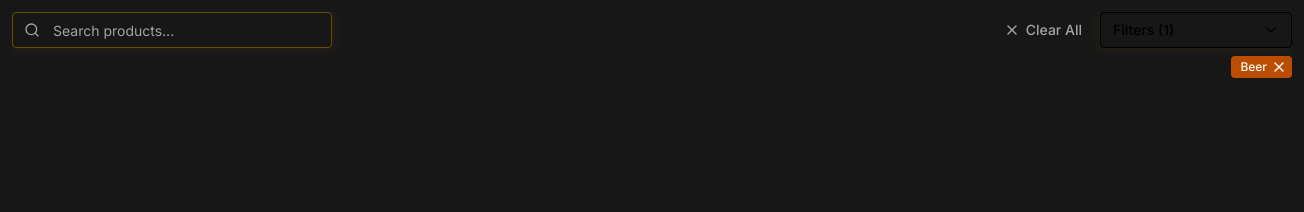
Scenario: ProductFilters › Filter Dropdown › should show checked state for selected filters
Click the button "Filters (1)". click: (1196, 30)
box: left=1100, top=12, right=1292, bottom=48
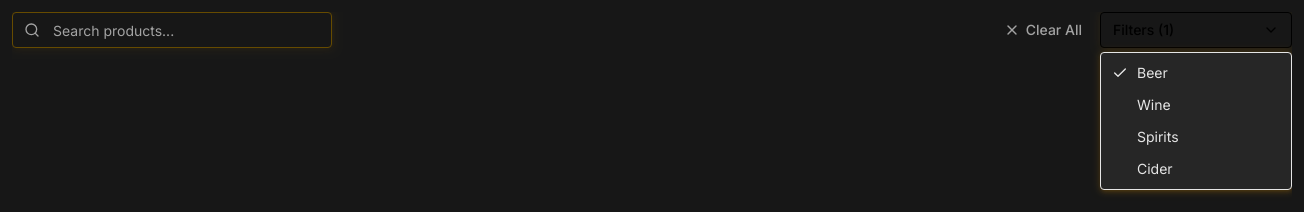
Now the menu item "Beer" is checked, box left=1112, top=64, right=1168, bottom=81
